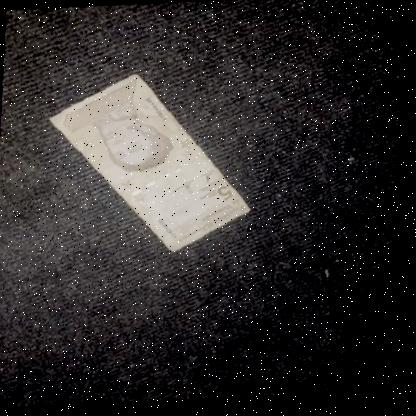five-front-vef: (38, 68, 265, 260)
